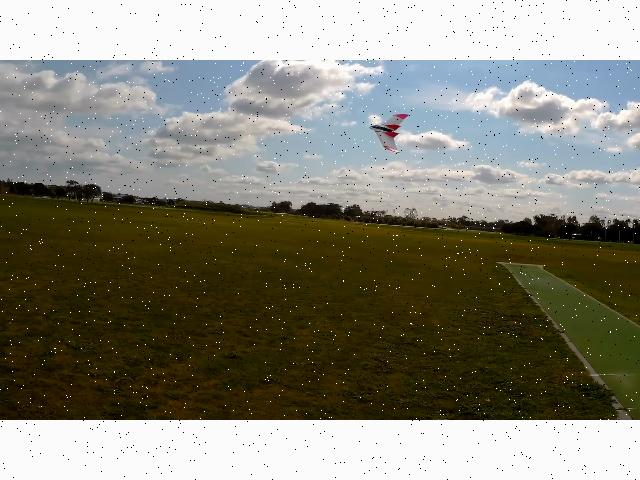Anti-Drone: (369, 115, 409, 154)
